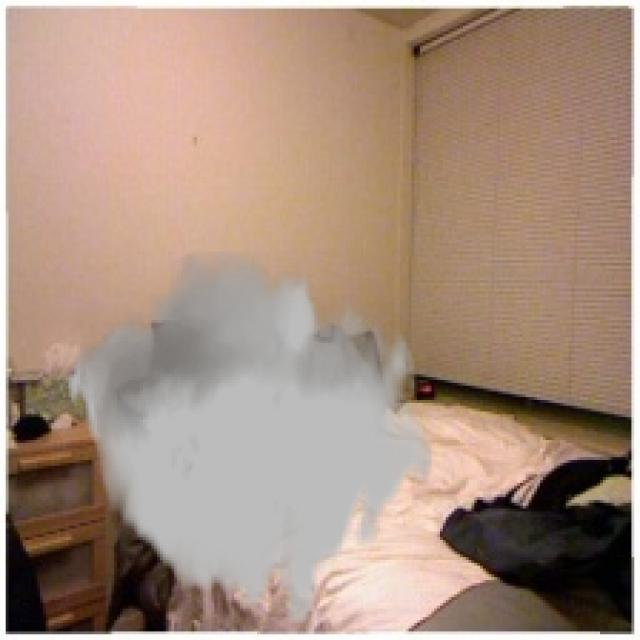smoke: (66, 251, 434, 623)
